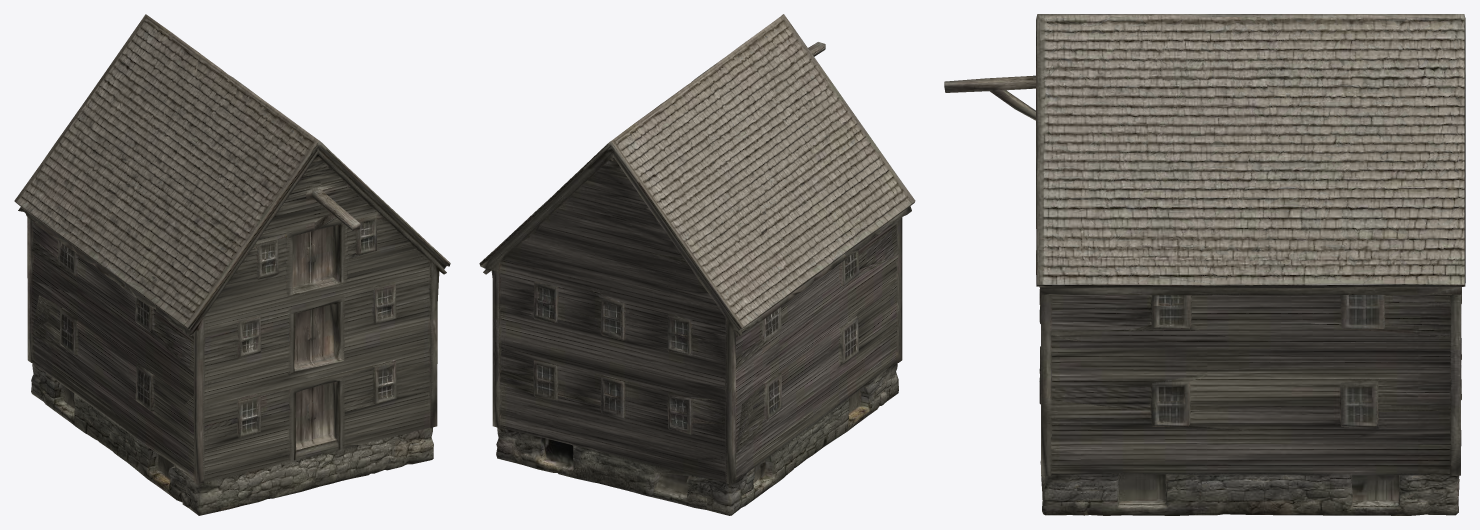
The model's file is bldg-warehouse-wharf-a.glb.
The picture shows the model from 3 angles, left to right: view 1: azimuth 30°, elevation 25°; view 2: azimuth 150°, elevation 25°; view 3: azimuth 270°, elevation 25°; orthographic projection. The views are drawn at different scales.
Visible parts, largest first — view 1: Mesh_0; view 2: Mesh_0; view 3: Mesh_0.
Boxes of the visible parts, bbox=[...] form: Mesh_0: bbox=[14, 14, 450, 515]; Mesh_0: bbox=[479, 14, 915, 515]; Mesh_0: bbox=[944, 14, 1465, 515].
Size of the model in its own units: 1.37 by 1.73 by 1.9.
Materials: 1 (1 with a texture image).
